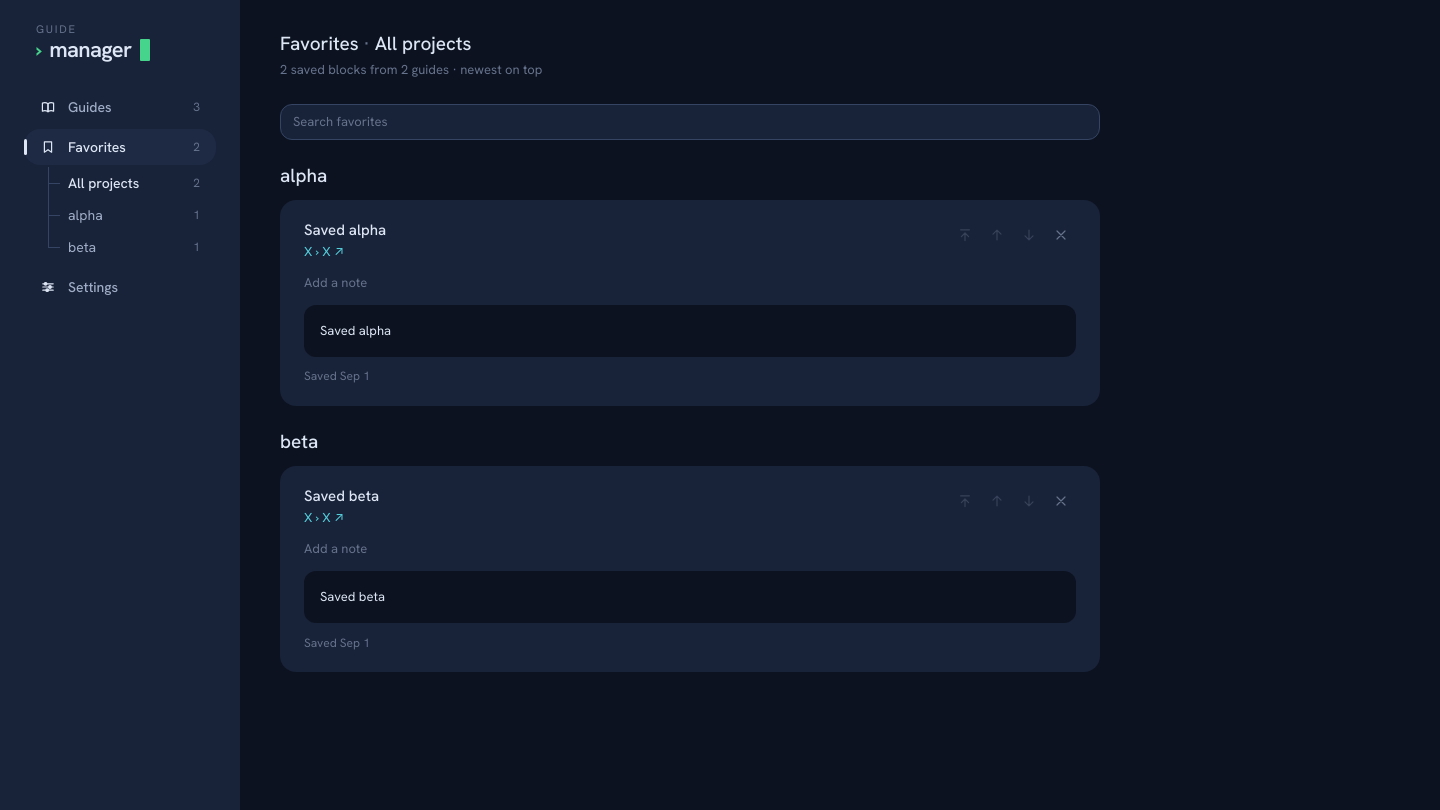
Test case: App — the rail owns the project scope › writes the favorites pick by name and narrows the board
Check: the button "Saved beta" is shown, box [304,486,379,508]
Click the button with class "rail-sublink" showing "alpha 1".
click(132, 215)  # box [48,199,216,231]
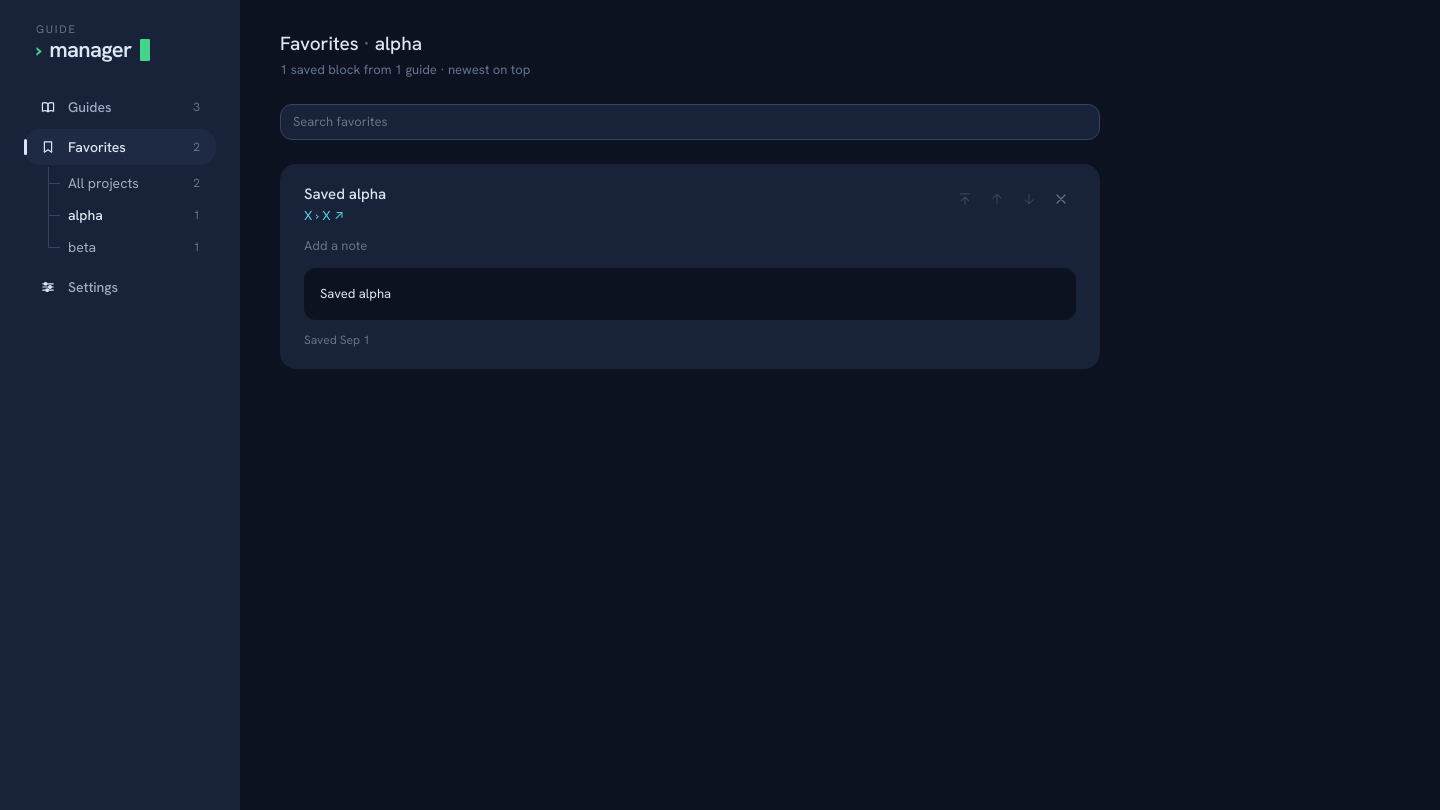
Check: the text with class "rail-sublabel" reads "alpha", box [68,206,103,224]
Check: the heading "Favorites · alpha" is shown, box [280,31,422,56]
